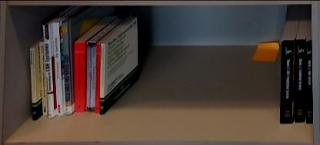book-spine: (280, 40, 294, 124), (52, 22, 64, 116), (61, 21, 72, 115), (43, 24, 54, 118), (294, 39, 306, 122), (74, 42, 87, 112), (305, 40, 313, 124), (39, 41, 47, 117), (30, 47, 38, 121), (94, 43, 101, 114), (90, 43, 97, 112), (100, 43, 106, 115), (86, 42, 90, 112)
